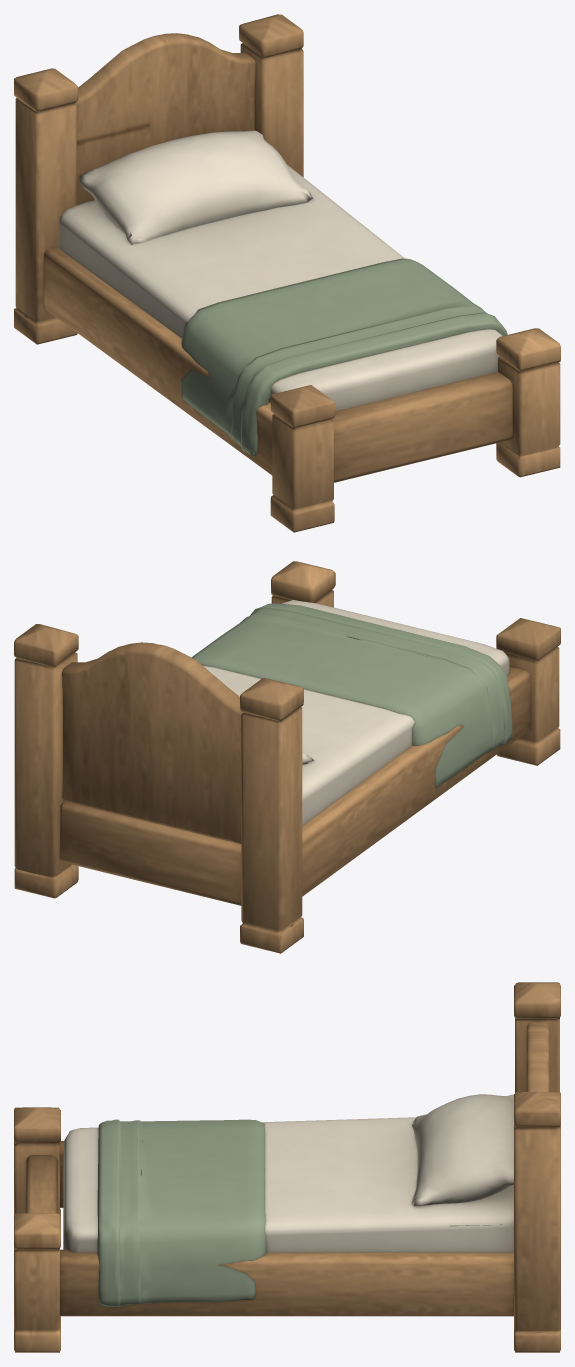
File: single-pony-bed.glb
The picture shows the model from 3 angles, top to bottom: view 1: azimuth 30°, elevation 25°; view 2: azimuth 150°, elevation 25°; view 3: azimuth 270°, elevation 25°; orthographic projection. The views are drawn at different scales.
Parts seen in each view (by area): view 1: single-pony-bed; view 2: single-pony-bed; view 3: single-pony-bed.
Part boxes in pixels (x1=…): single-pony-bed: x1=14, y1=14, x2=560, y2=532; single-pony-bed: x1=14, y1=561, x2=560, y2=953; single-pony-bed: x1=14, y1=982, x2=560, y2=1352.
Size of the model in its own units: 0.5507 by 0.5215 by 0.998.
1 material, 1 textured.
